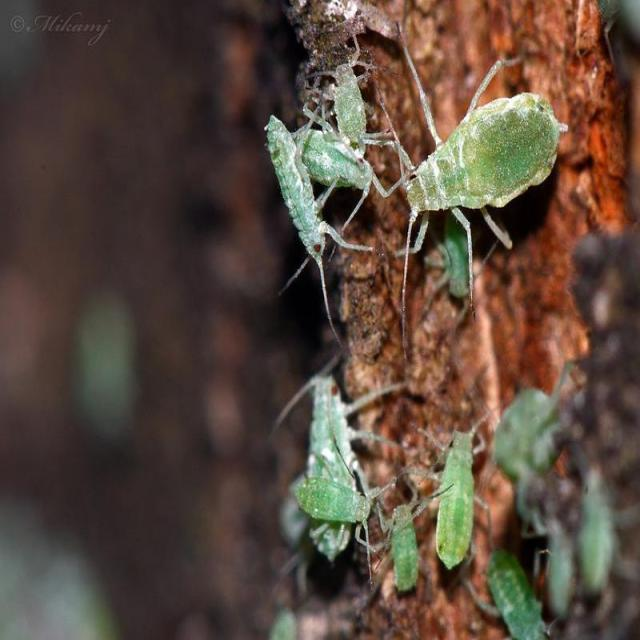Aphids: (363, 59, 584, 316), (244, 82, 353, 324), (416, 403, 502, 573)
